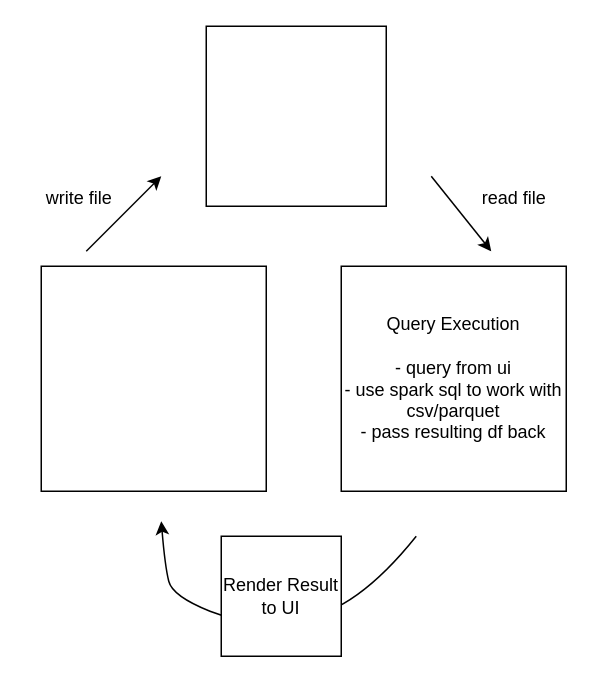
The diagram is 593 pixels wide and 683 high, and some of its shapes have lost their labels. The centre of each missing label's shape, as x and y in pixels:
File Storage - upload to s3: point (295, 115)
Interface - upload file - write Q: point (153, 378)
